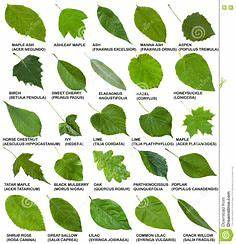inorganic: (0, 2, 49, 44), (3, 193, 46, 235), (171, 52, 216, 92), (128, 52, 167, 94), (6, 52, 47, 91), (5, 100, 44, 140), (10, 147, 49, 186), (94, 3, 131, 44), (134, 195, 175, 232), (89, 195, 130, 232), (133, 4, 171, 43), (88, 54, 126, 92), (48, 194, 83, 235), (87, 105, 131, 137), (140, 104, 177, 142), (176, 148, 218, 181), (91, 148, 131, 182), (136, 146, 172, 182), (177, 196, 214, 231), (56, 4, 89, 43), (53, 55, 86, 93), (183, 104, 218, 139), (177, 15, 219, 44), (51, 148, 85, 182), (54, 110, 86, 141)
